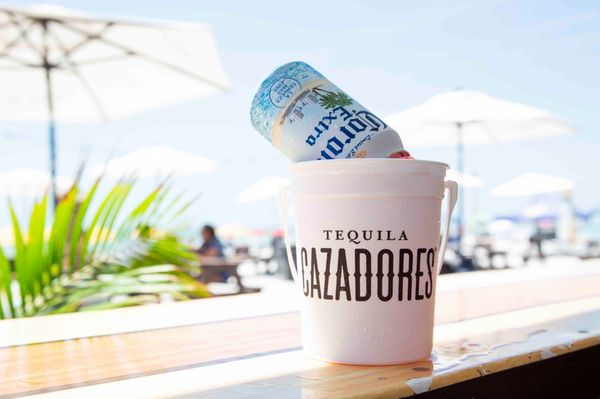pizza: (282, 158, 457, 374)
